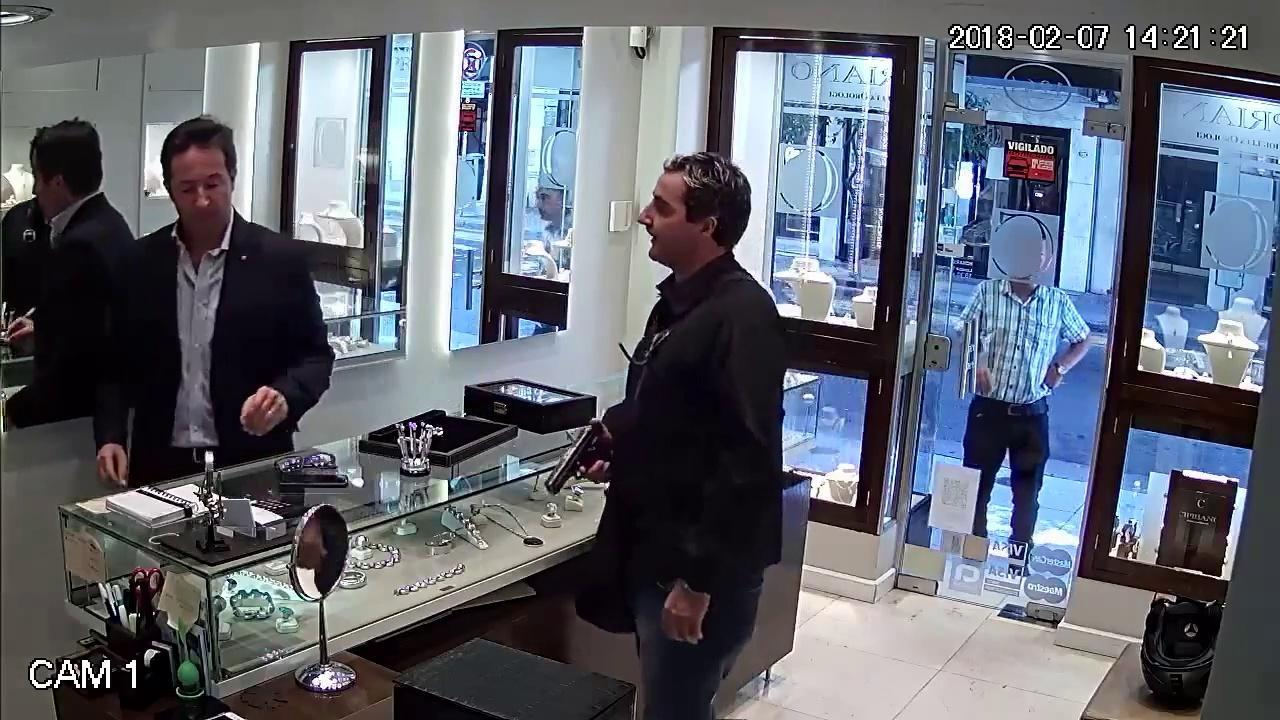Guns perspective: (523, 407, 631, 511)
